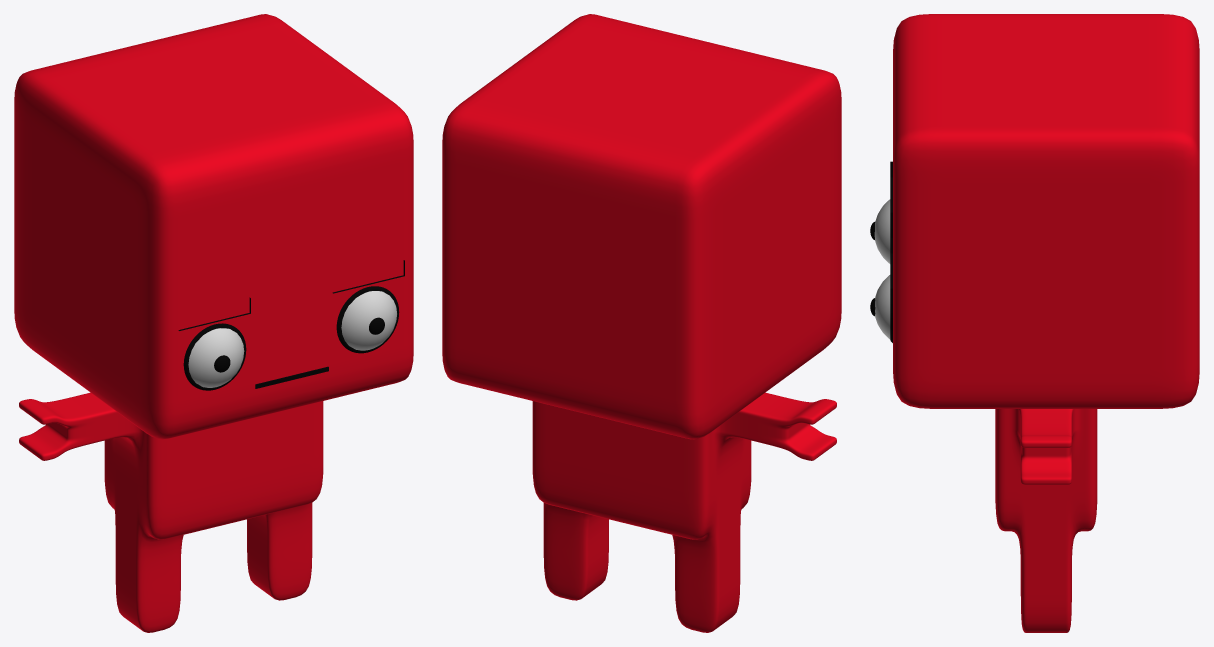
File: MadRobot.dae
3 renders of one model, left to right at view 1: azimuth 30°, elevation 25°; view 2: azimuth 150°, elevation 25°; view 3: azimuth 270°, elevation 25°, orthographic.
Parts seen in each view (by area): view 1: MadRobot; view 2: MadRobot; view 3: MadRobot.
Boxes of the visible parts, x1,y1,x2,y2 form: MadRobot: [14, 14, 413, 632]; MadRobot: [442, 14, 841, 632]; MadRobot: [870, 14, 1199, 632].
Bounding box in the file's own units: 2.8 × 2.15 × 3.77.
